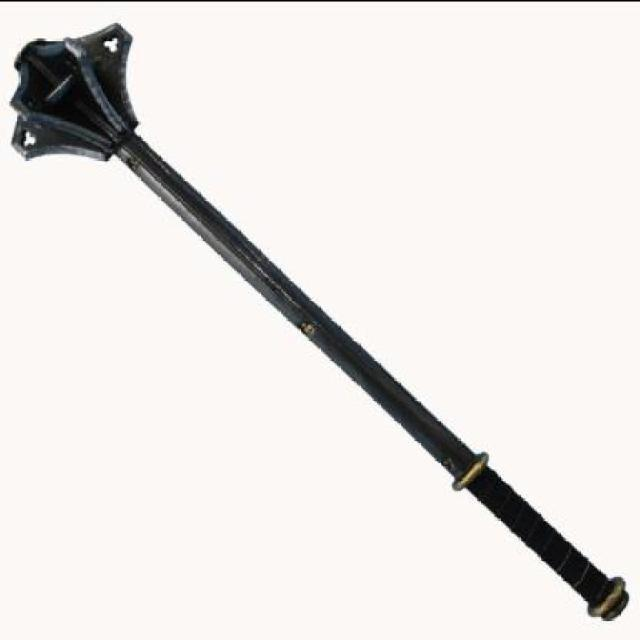weapon: (8, 20, 630, 622)
